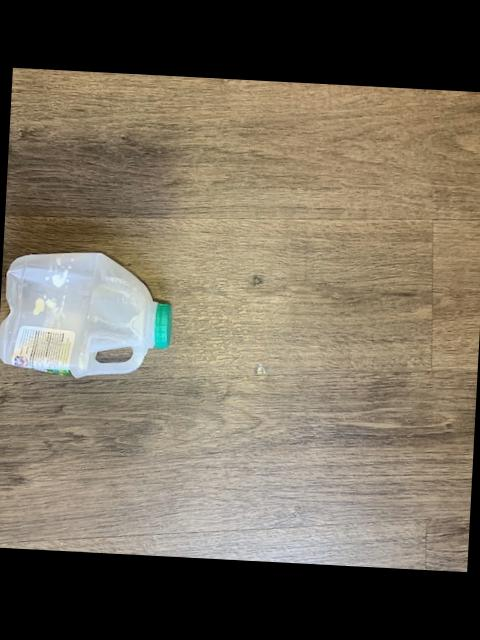plastic: (0, 252, 172, 375)
